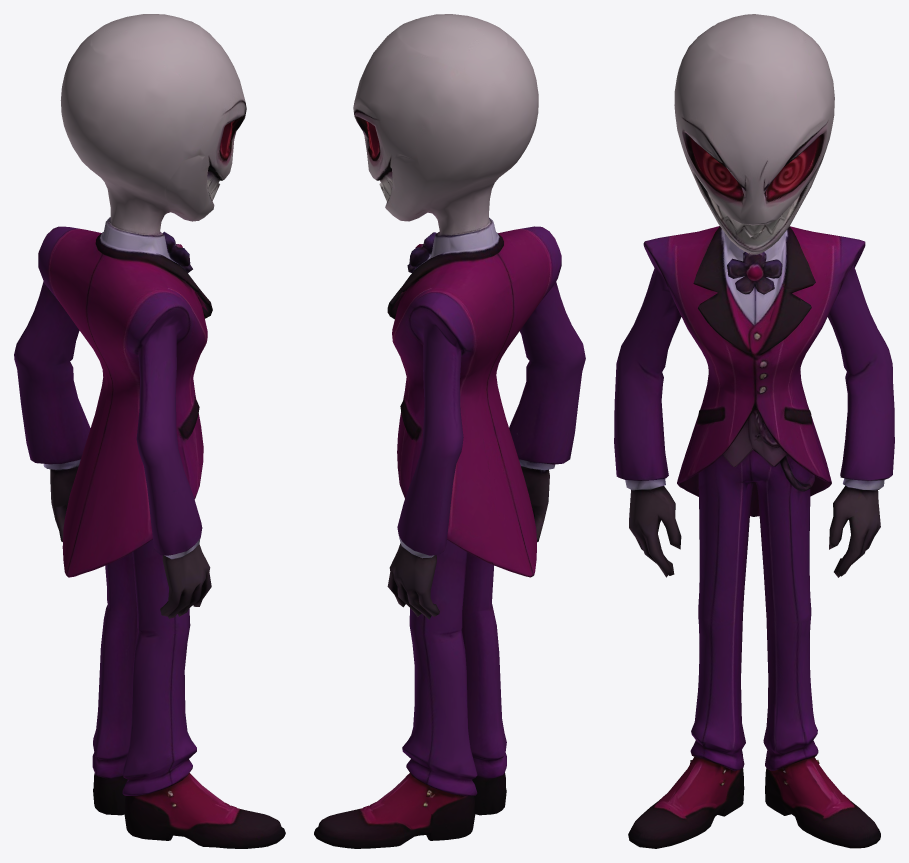
File: Bob.glb
3 views of the same model, side by side, from view 1: azimuth 30°, elevation 25°; view 2: azimuth 150°, elevation 25°; view 3: azimuth 270°, elevation 25° (orthographic).
Visible parts, largest first — view 1: tripo_node_1e040341-d66a-450b-a9bf-f029889bb4ad; view 2: tripo_node_1e040341-d66a-450b-a9bf-f029889bb4ad; view 3: tripo_node_1e040341-d66a-450b-a9bf-f029889bb4ad.
Boxes of the visible parts, bbox=[...] form: tripo_node_1e040341-d66a-450b-a9bf-f029889bb4ad: bbox=[14, 14, 285, 848]; tripo_node_1e040341-d66a-450b-a9bf-f029889bb4ad: bbox=[314, 14, 585, 848]; tripo_node_1e040341-d66a-450b-a9bf-f029889bb4ad: bbox=[614, 14, 894, 848].
Bounding box in the file's own units: 0.22 × 0.9794 × 0.3161.
Materials: 1 (1 with a texture image).
